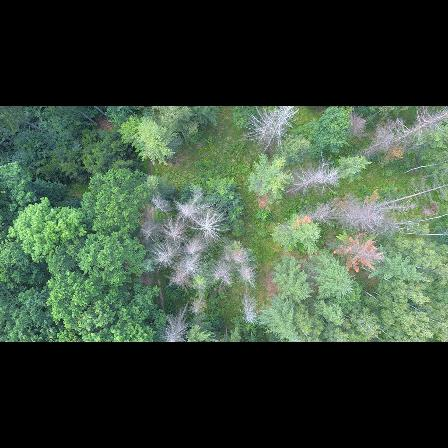Dead: (353, 109, 447, 161), (304, 209, 382, 232), (285, 165, 341, 197), (163, 305, 189, 341), (192, 213, 227, 239), (265, 112, 287, 151), (206, 259, 229, 295), (178, 191, 204, 221), (235, 261, 259, 290), (258, 110, 276, 144), (162, 220, 186, 245), (241, 294, 259, 326), (154, 248, 175, 267), (183, 242, 201, 261), (182, 257, 201, 275)
